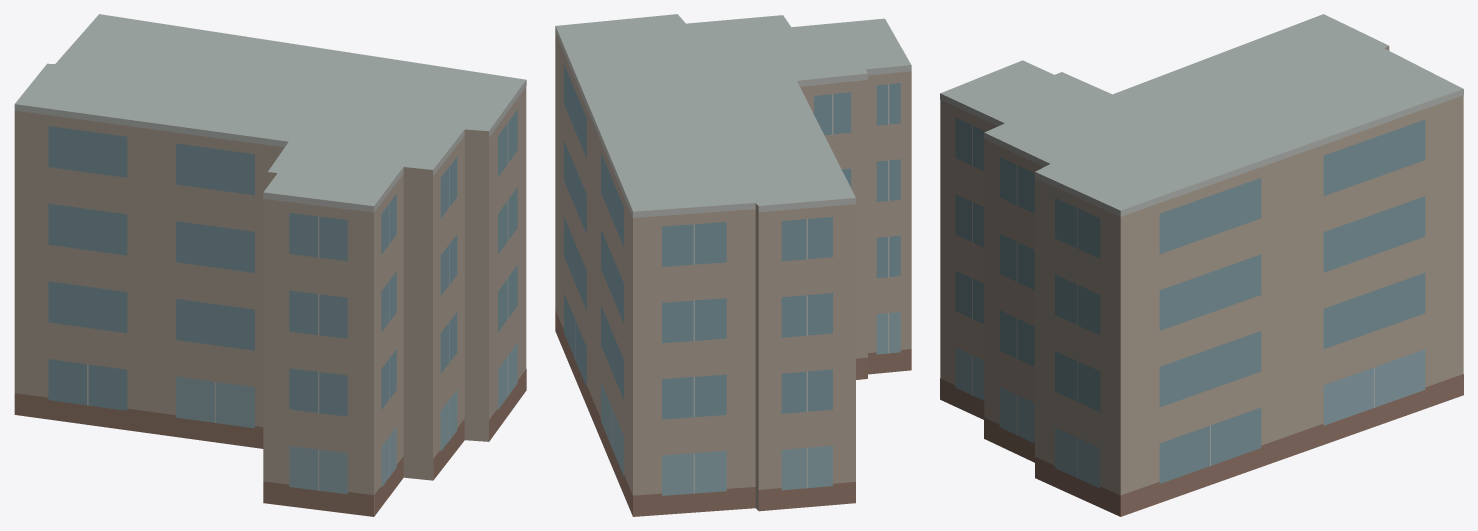
The model's file is survey-upis-32716645.glb.
3 renders of one model, left to right at view 1: azimuth 30°, elevation 25°; view 2: azimuth 150°, elevation 25°; view 3: azimuth 270°, elevation 25°, orthographic.
Parts seen in each view (by area): view 1: survey-upis-32716645.tmp; view 2: survey-upis-32716645.tmp; view 3: survey-upis-32716645.tmp.
Boxes of the visible parts, left/top/right/bottom form: survey-upis-32716645.tmp: left=14, top=14, right=526, bottom=516; survey-upis-32716645.tmp: left=555, top=14, right=911, bottom=516; survey-upis-32716645.tmp: left=940, top=14, right=1463, bottom=516.
Size of the model in its own units: 16.4 by 11.9 by 18.45.
